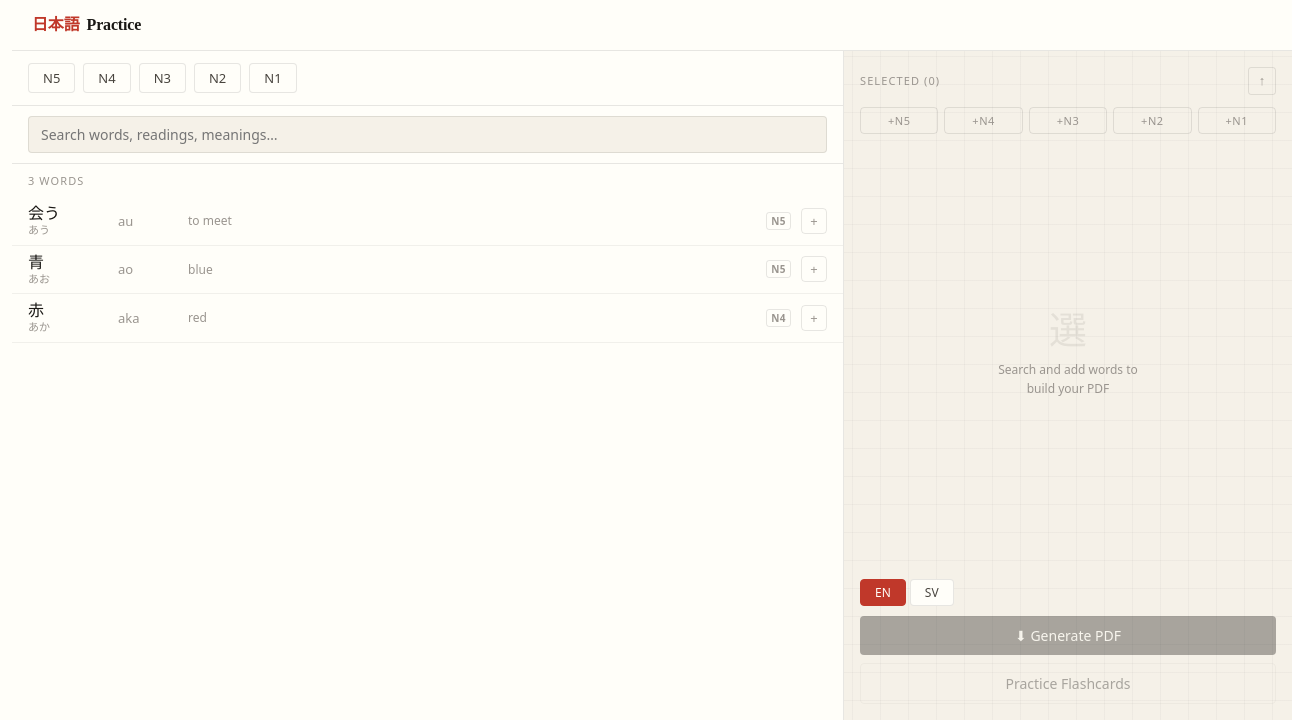
Test: VocabularyBuilder › selecting a word adds it to the selection panel
Expected: the text "会う" is shown, [28, 205, 60, 222]
Click the button with aria-label "add " at (44, 214), box [12, 197, 843, 246]
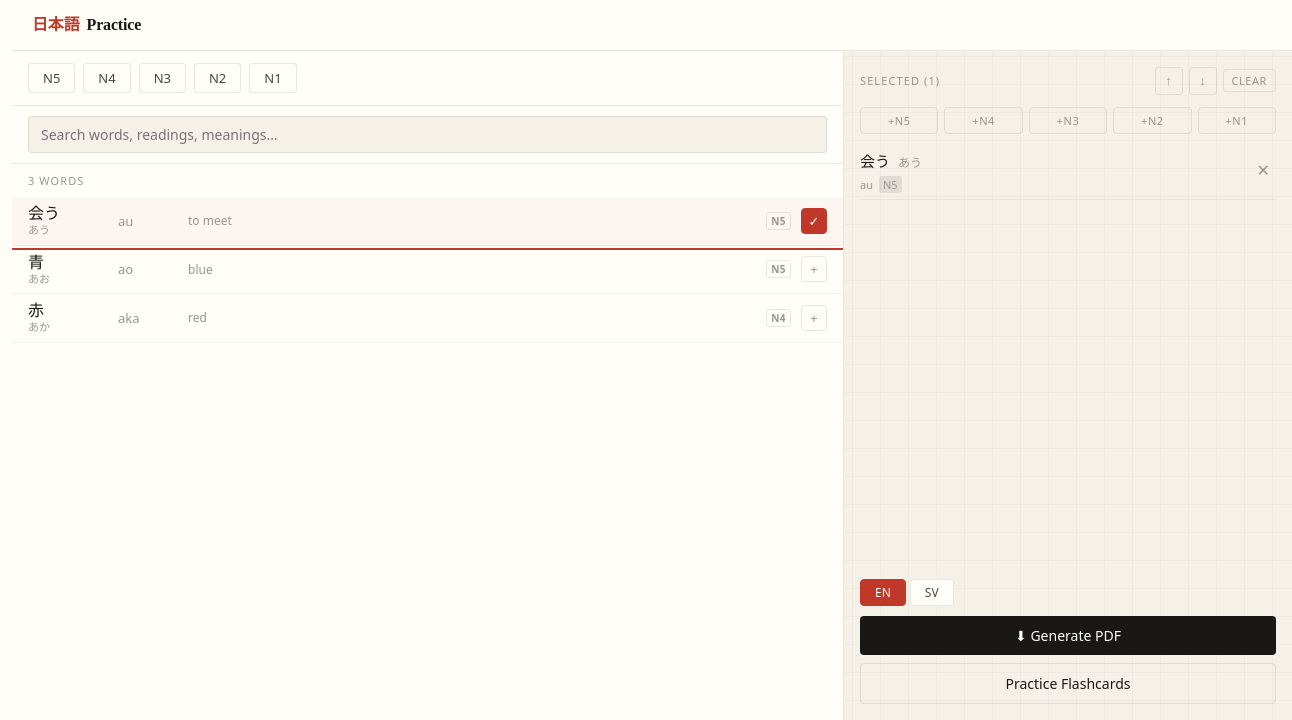
Now the text "Selected (1)" is shown, box [860, 72, 940, 89]
